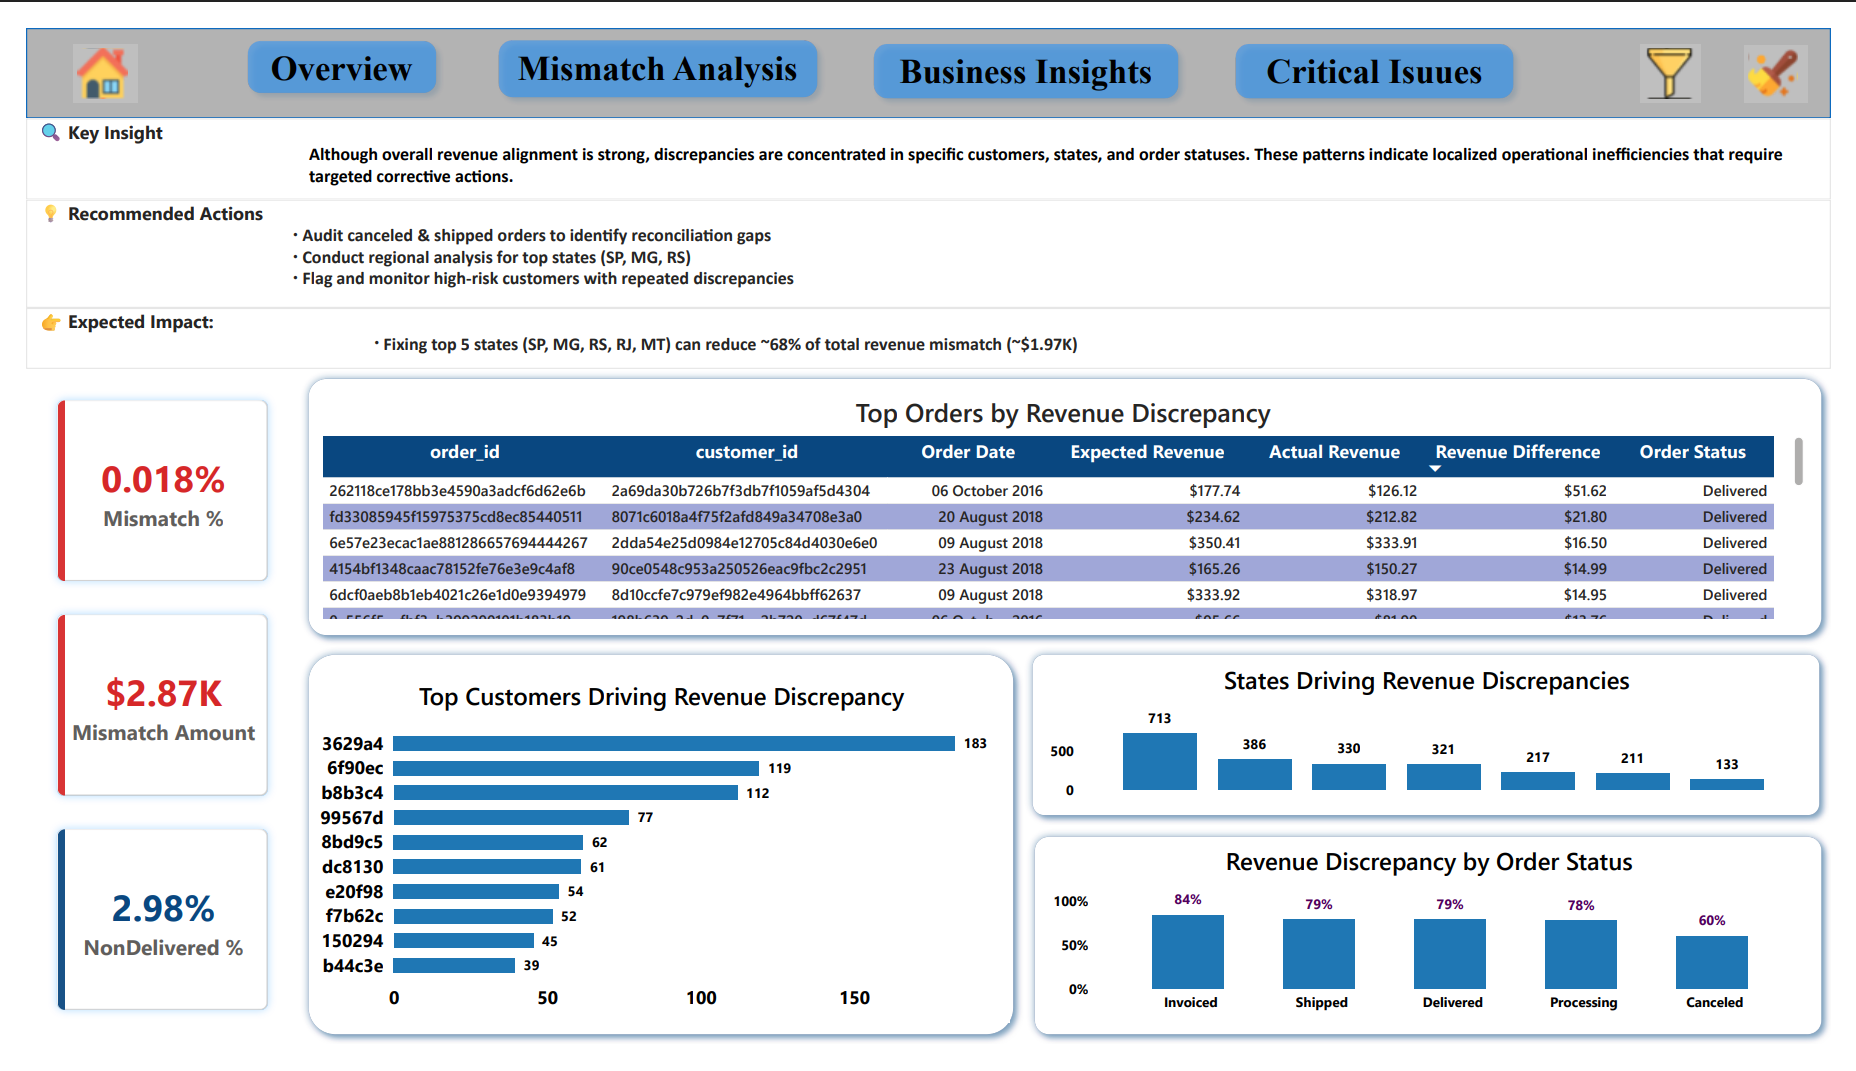

Layout of this report page (visuals, bound fields, positions):
{"tool":"powerbi","page":{"name":"Critical Issues","canvas":[1600,900],"ordinal":4},"visuals":[{"type":"shape","box":[0,0,1600,80],"z":0},{"type":"actionButton","box":[187.8,3.5,184.3,62.6],"z":1000},{"type":"actionButton","box":[410.4,1.7,299.1,67.8],"z":2000},{"type":"actionButton","box":[742.6,5.2,287,66.1],"z":3000},{"type":"actionButton","box":[1064.3,5.2,262.6,66.1],"z":4000},{"type":"actionButton","box":[41.7,13.9,57.4,52.2],"z":5000},{"type":"textbox","box":[0,79.7,1600,71.9],"z":6000},{"type":"cardVisual","fields":{"Data":["measure.Mismatch %","measure.Mismatch Amount","measure.NonDelivered %"]},"box":[0,301.6,242.2,598.4],"z":7000},{"type":"shape","box":[242.2,301.6,1357.8,245.3],"z":8000},{"type":"tableEx","title":"Top Orders by Revenue Discrepancy","fields":{"Values":["orders.order_id","orders.customer_id","orders.Order Date Clean","Sum(vw_reconciliation.expected_value)","Sum(vw_reconciliation.actual_value)","Sum(vw_reconciliation.difference_value)","orders.Order Status Clean"]},"box":[257.8,320.3,1323.4,207.8],"z":9000},{"type":"shape","box":[242.2,546.9,642.2,353.1],"z":10000},{"type":"clusteredBarChart","title":"Top Customers Driving Revenue Discrepancy","fields":{"Category":["customers.Customer Short"],"Y":["measure.Mismatch Amount Clean"]},"box":[254.7,576.6,617.2,304.7],"z":11000},{"type":"shape","box":[884.4,546.9,714.1,159.4],"z":12000},{"type":"shape","box":[885.9,707.8,714.1,192.2],"z":13000},{"type":"clusteredColumnChart","title":"States Driving Revenue Discrepancies","fields":{"Category":["customers.customer_state"],"Y":["measure.Mismatch Amount Clean"]},"box":[903.1,562.5,678.1,126.6],"z":14000},{"type":"clusteredColumnChart","title":"Revenue Discrepancy by Order Status","fields":{"Category":["orders.Order Status Clean"],"Y":["measure.Mismatch Rate by Status"]},"box":[904.7,723.4,678.1,157.8],"z":15000},{"type":"actionButton","title":"Funnel Open","box":[1431.3,13.9,53.9,52.2],"z":18000},{"type":"actionButton","box":[1523.3,14.5,56,51.8],"z":19000},{"type":"textbox","box":[0,151.6,1600,96.9],"z":20000},{"type":"textbox","box":[0,248.4,1600,53.1],"z":21000}]}

Visuals, with their boxes in screenshot pixels (x1, y1, x2, y2), scaled from the page's 1600x900 canvas onto the 1856x1071 screenshot:
shape: bbox(0, 0, 1855, 95)
actionButton: bbox(218, 4, 432, 79)
actionButton: bbox(476, 2, 823, 83)
actionButton: bbox(861, 6, 1194, 85)
actionButton: bbox(1235, 6, 1539, 85)
actionButton: bbox(48, 17, 115, 79)
textbox: bbox(0, 95, 1855, 180)
cardVisual - measure.Mismatch % x measure.Mismatch Amount: bbox(0, 359, 281, 1070)
shape: bbox(281, 359, 1855, 651)
"Top Orders by Revenue Discrepancy" tableEx: bbox(299, 381, 1834, 628)
shape: bbox(281, 651, 1026, 1070)
"Top Customers Driving Revenue Discrepancy" clusteredBarChart: bbox(295, 686, 1011, 1049)
shape: bbox(1026, 651, 1854, 840)
shape: bbox(1028, 842, 1855, 1070)
"States Driving Revenue Discrepancies" clusteredColumnChart: bbox(1048, 669, 1834, 820)
"Revenue Discrepancy by Order Status" clusteredColumnChart: bbox(1049, 861, 1836, 1049)
"Funnel Open" actionButton: bbox(1660, 17, 1723, 79)
actionButton: bbox(1767, 17, 1832, 79)
textbox: bbox(0, 180, 1855, 296)
textbox: bbox(0, 296, 1855, 359)
